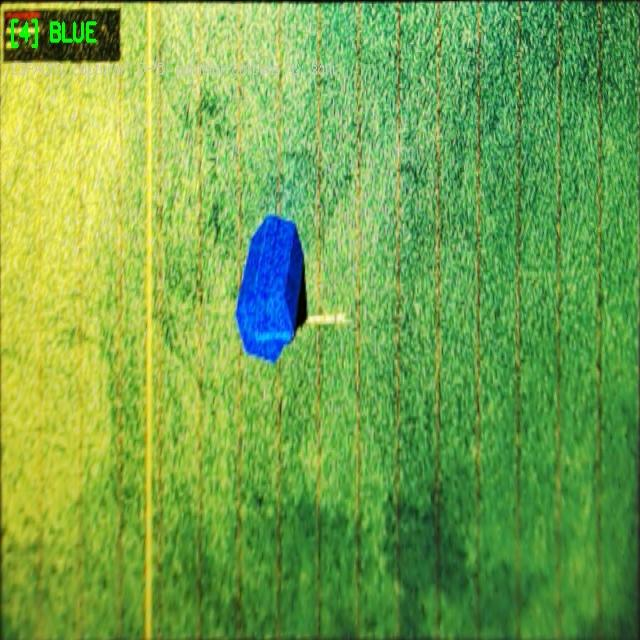blue: (235, 213, 306, 361)
